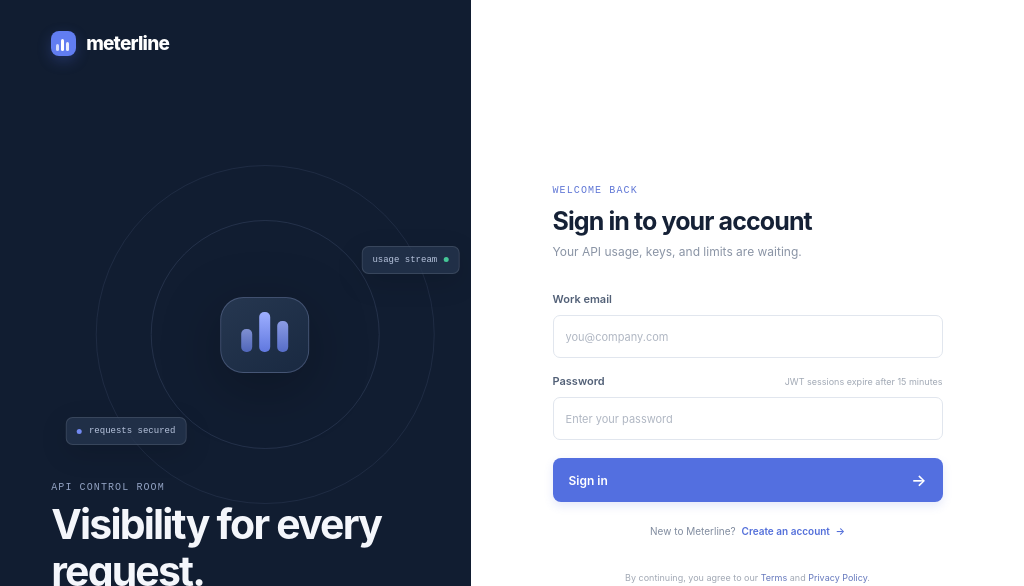
dashboard integration states › shows loading and API error states with a retry action
Type "jordan@example.test" into the field labelled "Work email".
click(748, 336); type("jordan@example.test")  # box top-left (552, 315), bottom-right (942, 358)
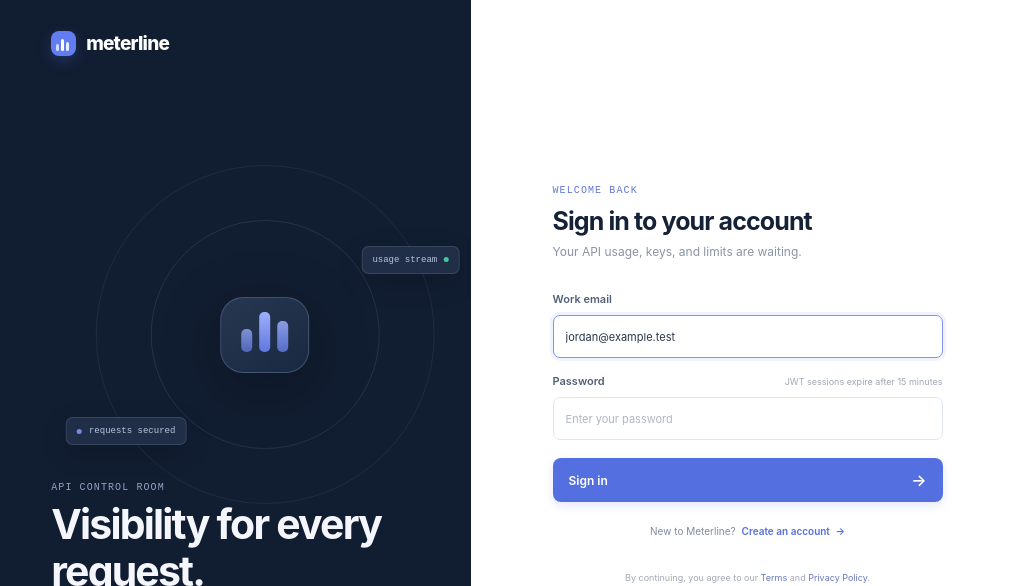
Type "long-enough-password" into the password field labelled "Password".
click(748, 418); type("long-enough-password")  # box top-left (552, 397), bottom-right (942, 440)
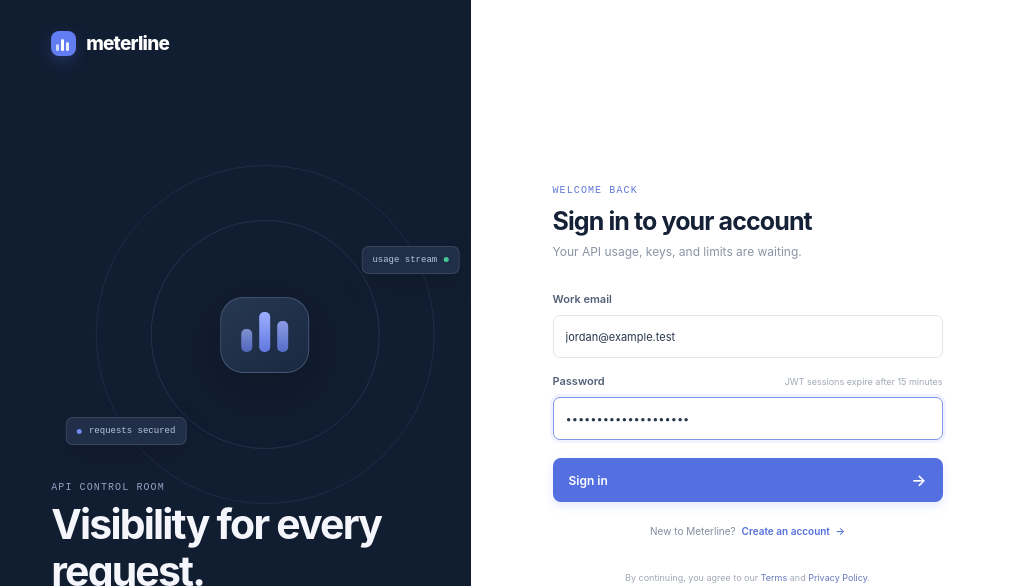
Click the button "Sign in →".
click(588, 480)  # box top-left (552, 458), bottom-right (942, 502)
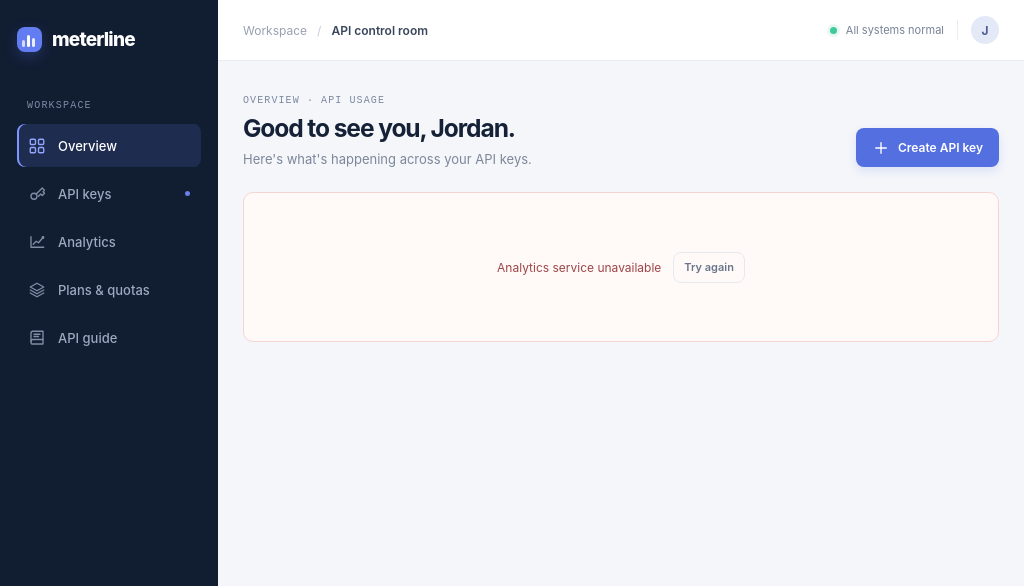
Result: the message shows "Analytics service unavailable" at top-left (497, 260), bottom-right (661, 275)
Click the button "Try again".
click(709, 268)  # box top-left (673, 252), bottom-right (745, 283)
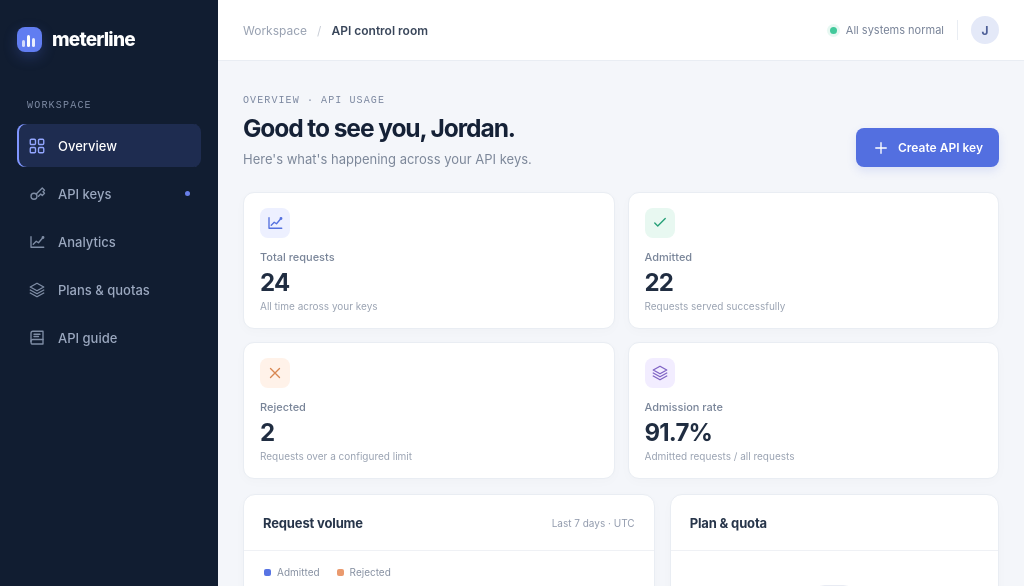
Result: the text "24" is shown at top-left (260, 268), bottom-right (289, 298)
